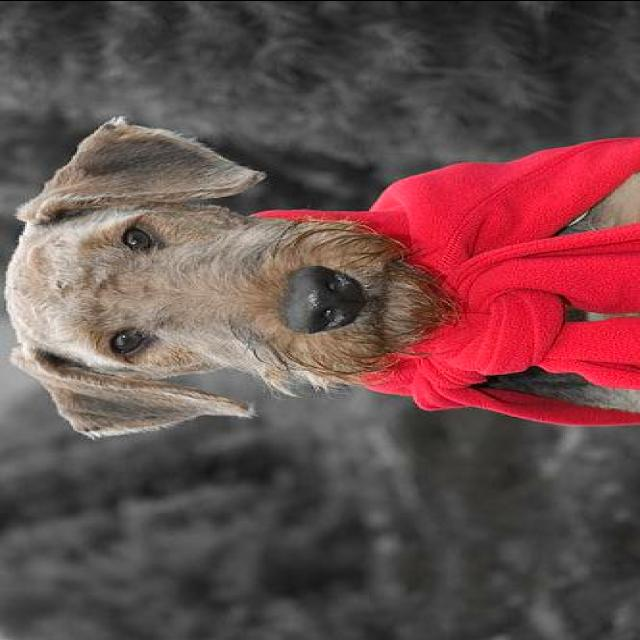airedale: (0, 115, 638, 443)
